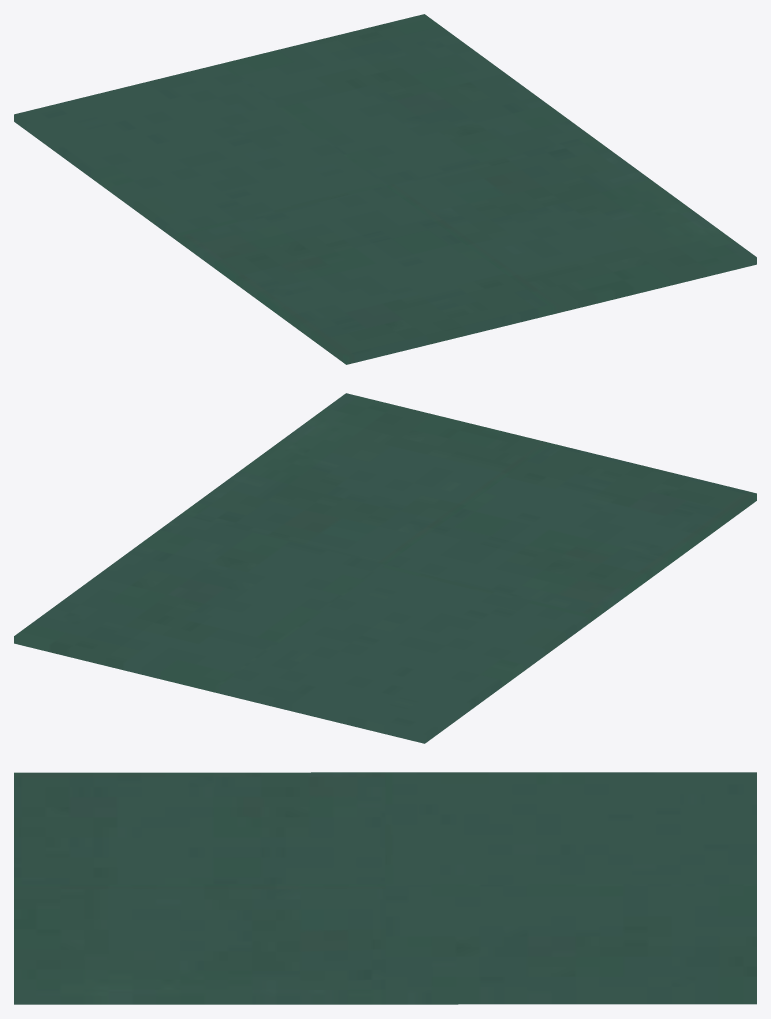
The picture shows the model from 3 angles, top to bottom: view 1: azimuth 30°, elevation 25°; view 2: azimuth 150°, elevation 25°; view 3: azimuth 270°, elevation 25°; orthographic projection. The views are drawn at different scales.
Visible parts, largest first — view 1: 30436272704370636711_0; view 2: 30436272704370636711_0; view 3: 30436272704370636711_0.
Boxes of the visible parts, box(x1,y1,x2,y2) form: 30436272704370636711_0: box(14, 14, 756, 364); 30436272704370636711_0: box(14, 393, 756, 743); 30436272704370636711_0: box(14, 772, 756, 1004).
Size of the model in its own units: 27.32 by 0.4807 by 38.26.
Materials: 1 (1 with a texture image).
